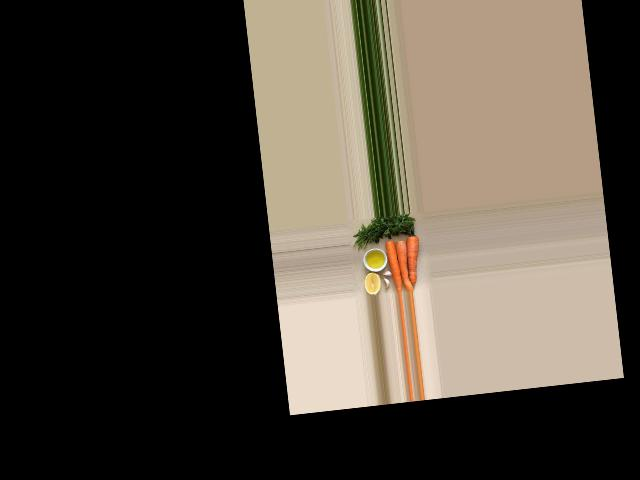carrot: (384, 237, 404, 293)
